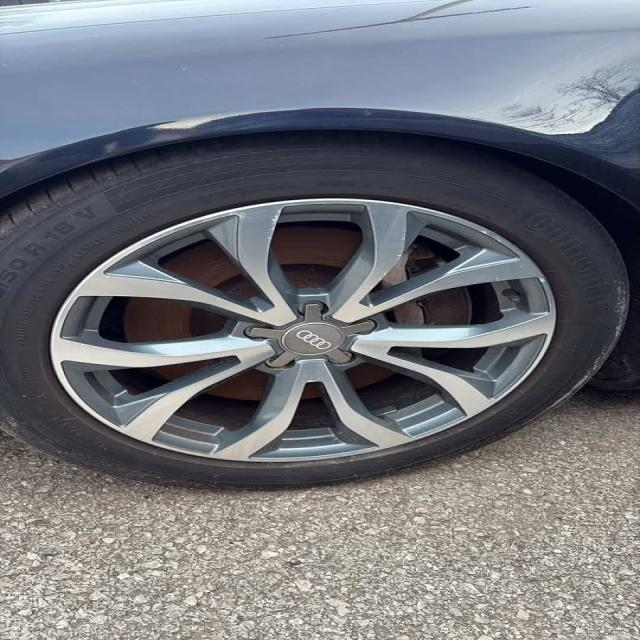jante: (48, 195, 558, 465)
roda: (0, 131, 632, 490)
